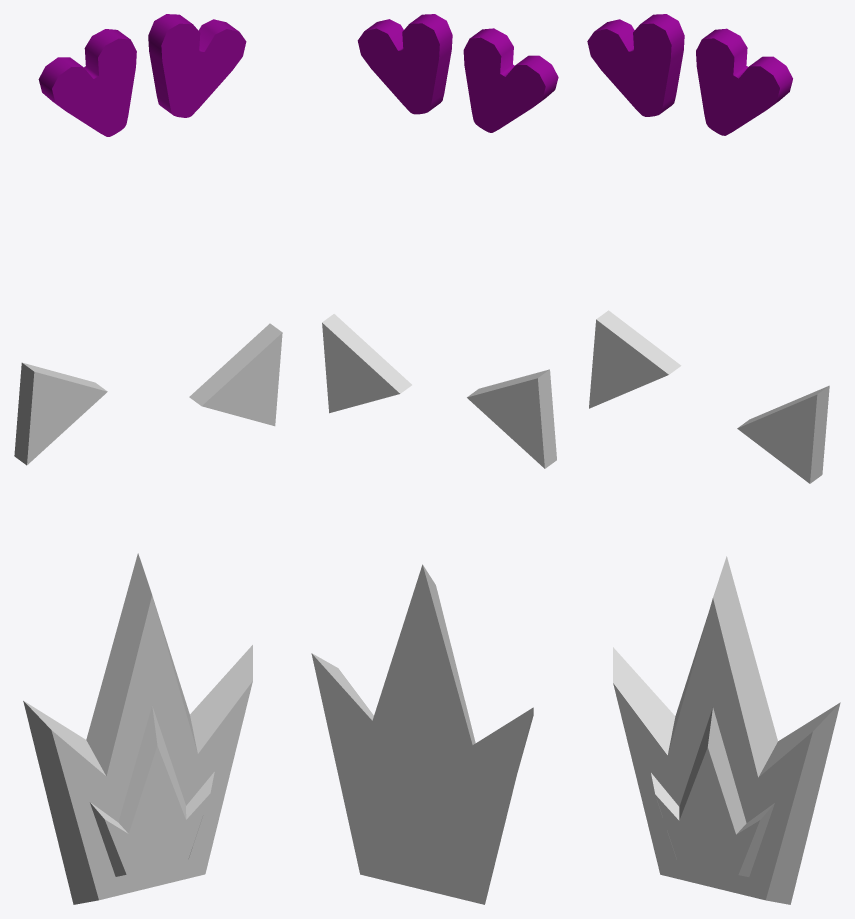
Rendered from usi jednobojne modeli 3.FBX.
3 views of the same model, side by side, from view 1: azimuth 30°, elevation 25°; view 2: azimuth 150°, elevation 25°; view 3: azimuth 330°, elevation 25° (orthographic). The views are drawn at different scales.
Parts seen in each view (by area): view 1: Plane007, Box003, Box004, Box005, Box006; view 2: Plane007, Box003, Box004, Box006, Box005; view 3: Plane007, Box004, Box003, Box005, Box006.
Part boxes in pixels (left/top/right/bottom): Plane007: left=23, top=553, right=252, bottom=904; Box003: left=148, top=14, right=246, bottom=117; Box004: left=38, top=29, right=136, bottom=136; Box005: left=189, top=323, right=282, bottom=426; Box006: left=14, top=362, right=107, bottom=465; Plane007: left=311, top=564, right=533, bottom=904; Box003: left=357, top=14, right=452, bottom=114; Box004: left=463, top=28, right=558, bottom=132; Box006: left=467, top=369, right=556, bottom=468; Box005: left=322, top=314, right=411, bottom=413; Plane007: left=613, top=556, right=840, bottom=904; Box004: left=587, top=14, right=684, bottom=116; Box003: left=696, top=28, right=792, bottom=135; Box005: left=737, top=385, right=829, bottom=483; Box006: left=589, top=310, right=681, bottom=408.
Bounding box in the file's own units: 468 × 1621 × 90.74.
